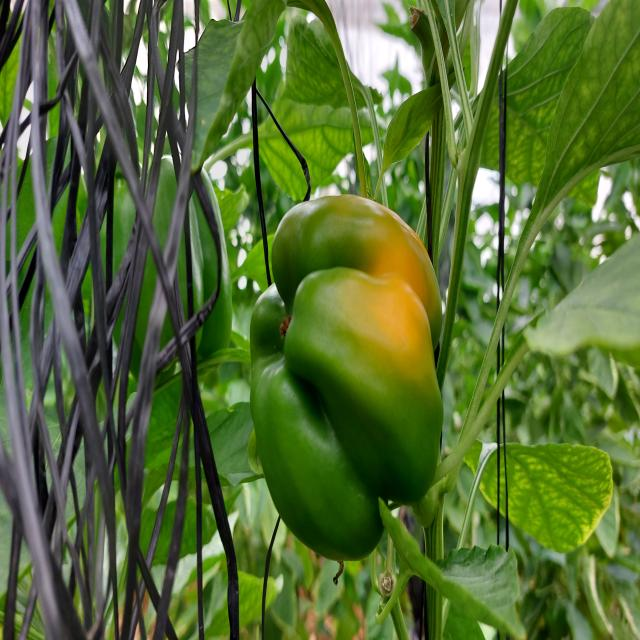GreenishYellow--Can-be-Harvested: (242, 190, 458, 566)
